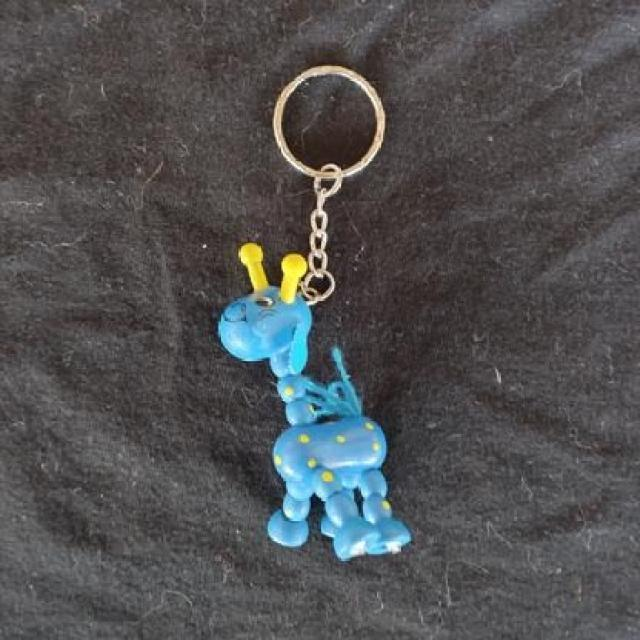Llavero: (216, 242, 413, 562)
